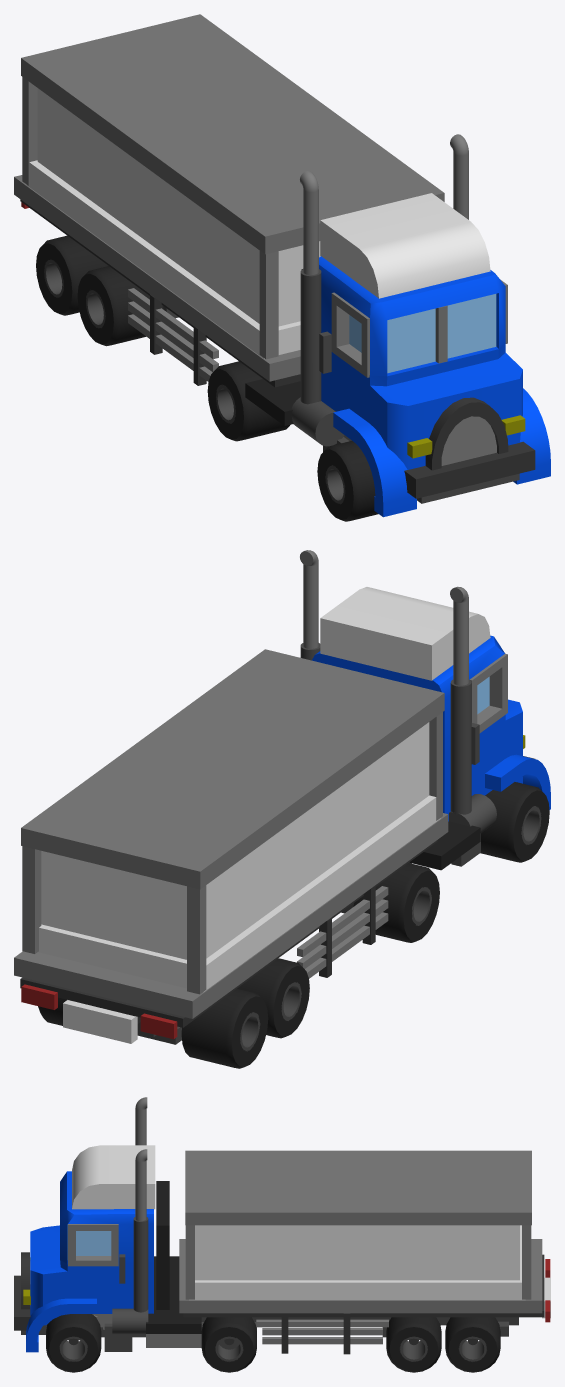
Rendered from track.obj.
3 views of the same model, one above another, from view 1: azimuth 30°, elevation 25°; view 2: azimuth 150°, elevation 25°; view 3: azimuth 270°, elevation 25° (orthographic). The views are drawn at different scales.
Visible parts, largest first — view 1: pCube88, pCube87, polySurface2, pCube43, pCube85, pCube79, pCube72, pCube42, pPipe15, pPipe5, pPipe7, pPipe11 (+17 smaller); view 2: pCube88, pCube87, pCube85, pCube43, polySurface2, pPipe11, pPipe5, pPipe7, pCylinder9, pPipe15, pCube48, pCube74 (+14 smaller); view 3: pCube88, pCube87, polySurface2, pCube85, pCube43, pPipe1, pPipe9, pPipe3, pPipe13, pCube48, pCube13, pCube47 (+21 smaller).
Part boxes in pixels (x1=…): pCube88: x1=21, y1=14, x2=444, y2=254; pCube87: x1=27, y1=88, x2=320, y2=358; polySurface2: x1=319, y1=256, x2=522, y2=469; pCube43: x1=320, y1=193, x2=490, y2=298; pCube85: x1=14, y1=175, x2=300, y2=381; pCube79: x1=349, y1=294, x2=496, y2=373; pCube72: x1=333, y1=408, x2=416, y2=517; pCube42: x1=404, y1=441, x2=535, y2=498; pPipe15: x1=77, y1=266, x2=163, y2=346; pPipe5: x1=317, y1=441, x2=378, y2=521; pPipe7: x1=207, y1=361, x2=290, y2=441; pPipe11: x1=36, y1=235, x2=108, y2=315; pCube88: x1=21, y1=649, x2=444, y2=889; pCube87: x1=38, y1=722, x2=440, y2=992; pCube85: x1=14, y1=813, x2=448, y2=1018; pCube43: x1=320, y1=587, x2=490, y2=680; polySurface2: x1=312, y1=635, x2=522, y2=821; pPipe11: x1=181, y1=988, x2=268, y2=1068; pPipe5: x1=480, y1=782, x2=549, y2=862; pPipe7: x1=353, y1=863, x2=439, y2=942; pCylinder9: x1=450, y1=679, x2=471, y2=814; pPipe15: x1=237, y1=958, x2=309, y2=1038; pCube48: x1=20, y1=840, x2=437, y2=1027; pCube74: x1=63, y1=1000, x2=137, y2=1043; pCube88: x1=185, y1=1150, x2=531, y2=1225; pCube87: x1=189, y1=1225, x2=525, y2=1300; polySurface2: x1=30, y1=1171, x2=153, y2=1325; pCube85: x1=179, y1=1239, x2=542, y2=1313; pCube43: x1=72, y1=1145, x2=155, y2=1209; pPipe1: x1=46, y1=1314, x2=101, y2=1372; pPipe9: x1=445, y1=1317, x2=500, y2=1372; pPipe3: x1=201, y1=1317, x2=256, y2=1372; pPipe13: x1=386, y1=1317, x2=441, y2=1372; pCube48: x1=183, y1=1254, x2=544, y2=1317; pCube13: x1=146, y1=1256, x2=201, y2=1333; pCube47: x1=156, y1=1181, x2=169, y2=1309.
Size of the model in its own units: 2.89 by 4.3 by 9.67.
